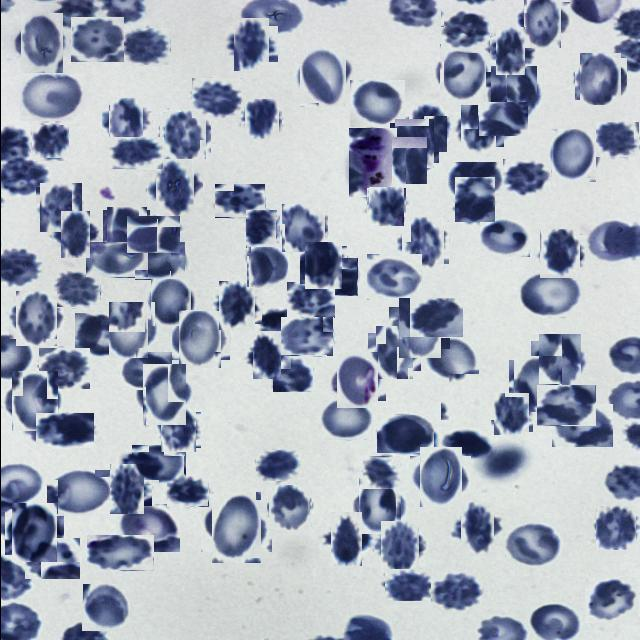red blood cell: (206, 497, 266, 558), (19, 74, 84, 122), (517, 270, 582, 318), (115, 504, 179, 552), (46, 470, 111, 517), (6, 374, 61, 428), (296, 50, 350, 104), (486, 69, 540, 122), (436, 46, 488, 100), (7, 506, 60, 558), (504, 522, 563, 568), (15, 16, 67, 68), (138, 368, 190, 420), (510, 358, 562, 410), (414, 451, 465, 503), (392, 302, 444, 353), (551, 404, 612, 447), (349, 80, 404, 127), (364, 254, 420, 300), (534, 337, 584, 388), (174, 314, 224, 364), (424, 336, 478, 382), (70, 17, 124, 63), (74, 313, 130, 357), (354, 481, 404, 530), (584, 577, 637, 623), (536, 385, 595, 426), (86, 535, 153, 571), (548, 132, 597, 180), (11, 294, 60, 342), (24, 538, 80, 580), (81, 584, 129, 632), (150, 164, 198, 212), (104, 306, 152, 354), (85, 242, 148, 278), (398, 219, 446, 266), (447, 162, 503, 202), (576, 56, 624, 102), (440, 10, 490, 54), (320, 399, 372, 441), (430, 570, 483, 611), (376, 415, 433, 453), (130, 444, 184, 484), (409, 298, 463, 338), (38, 346, 89, 388), (280, 316, 333, 356), (162, 110, 208, 156), (376, 524, 422, 570), (37, 185, 83, 231), (280, 205, 326, 251), (444, 378, 490, 424), (371, 329, 416, 375), (519, 0, 565, 45), (126, 216, 180, 254), (35, 413, 93, 448), (148, 279, 193, 324), (536, 232, 582, 276), (191, 78, 241, 118), (479, 219, 530, 258), (391, 121, 436, 165), (119, 352, 171, 390), (134, 242, 185, 280), (404, 106, 448, 150), (455, 507, 499, 551), (228, 22, 272, 66), (104, 208, 148, 252), (267, 486, 310, 530), (454, 177, 495, 223), (502, 159, 550, 198), (215, 284, 258, 327), (245, 245, 288, 288), (122, 28, 170, 66), (108, 137, 163, 170), (594, 506, 636, 549), (324, 518, 367, 560), (104, 468, 147, 510), (456, 108, 498, 150), (388, 139, 430, 181), (302, 244, 344, 286), (214, 184, 265, 218), (286, 282, 334, 318), (105, 100, 146, 142), (312, 258, 357, 296), (476, 102, 526, 136), (56, 271, 100, 308), (595, 121, 639, 158), (158, 410, 198, 450), (490, 31, 530, 70), (492, 394, 530, 434), (56, 214, 94, 253), (384, 569, 430, 601), (258, 308, 301, 342), (366, 187, 404, 225), (242, 100, 280, 138), (247, 336, 285, 374), (272, 356, 312, 392), (255, 450, 301, 481), (166, 476, 208, 507), (31, 124, 67, 160), (362, 456, 399, 489), (245, 210, 276, 248)
ring: (332, 356, 381, 405)
trophozoite: (348, 128, 396, 197)
